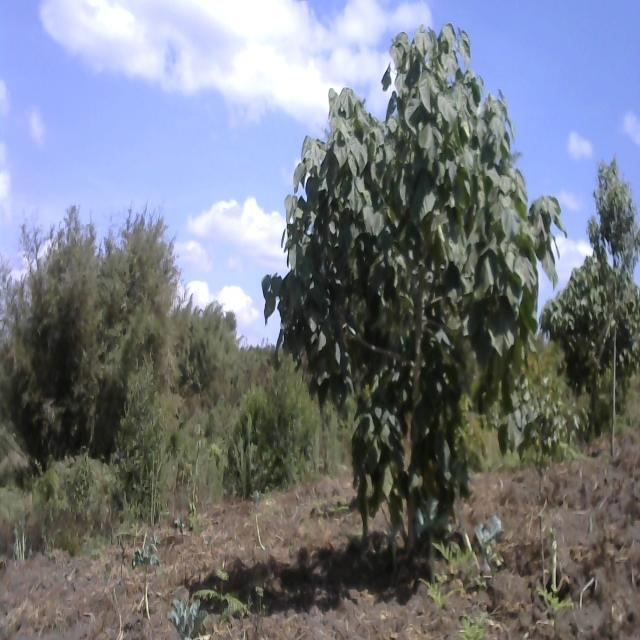Lemon Myrtle: (544, 154, 640, 429)
other: (261, 27, 563, 550), (116, 342, 162, 492)
